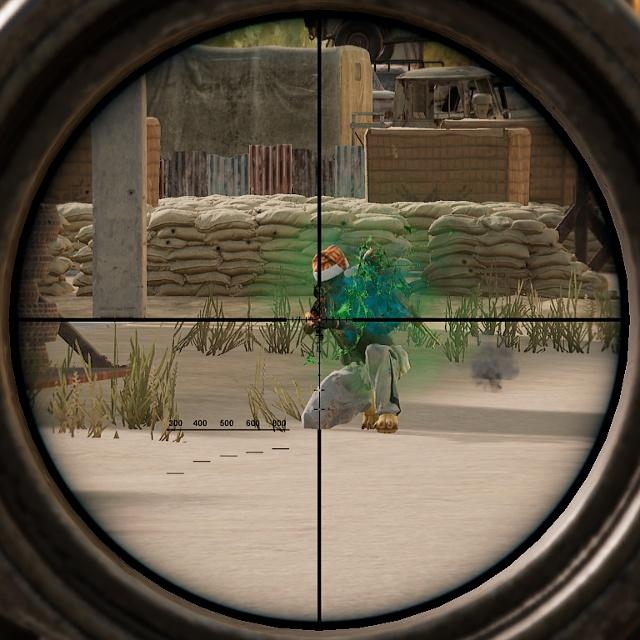head: (310, 244, 354, 295)
people: (293, 238, 419, 440)
